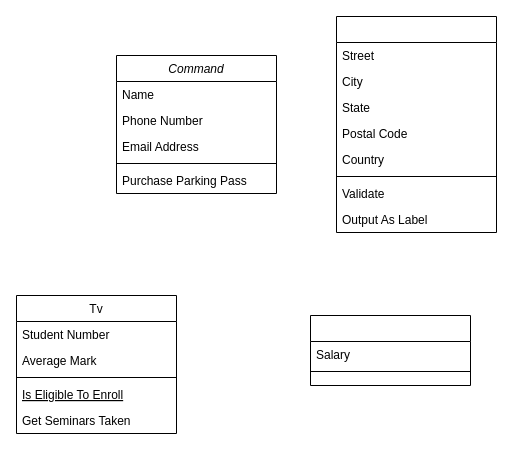
The diagram is 513 pixels wide and 450 high, and some of its shapes have lost their labels. The shapes that lost their labels are listed below. From the top down, each one's box as (x1, y1, x2, y2) in pixels, then its label:
(336, 16, 496, 232): RemoteControl
(310, 314, 470, 386): Tv_commands
